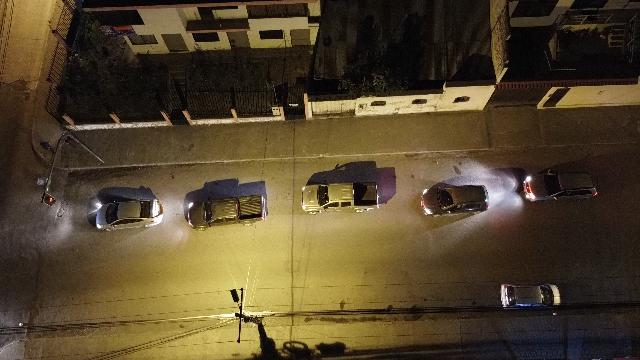Vehiculo: (300, 161, 396, 215), (184, 178, 268, 230), (86, 185, 164, 230), (524, 168, 598, 202), (421, 182, 489, 218), (500, 284, 560, 310)
